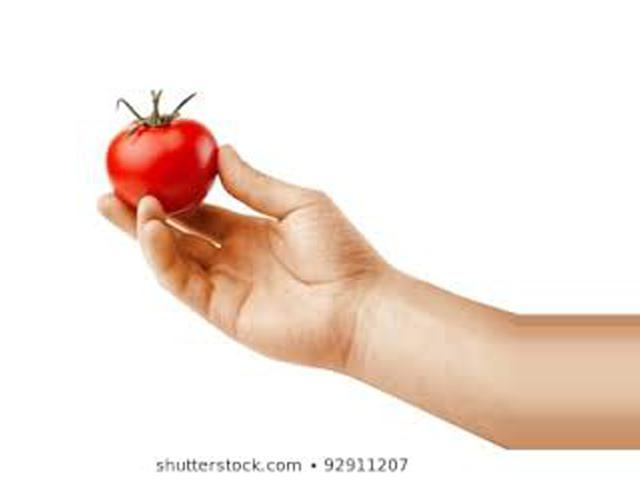tomato: (105, 118, 219, 216)
